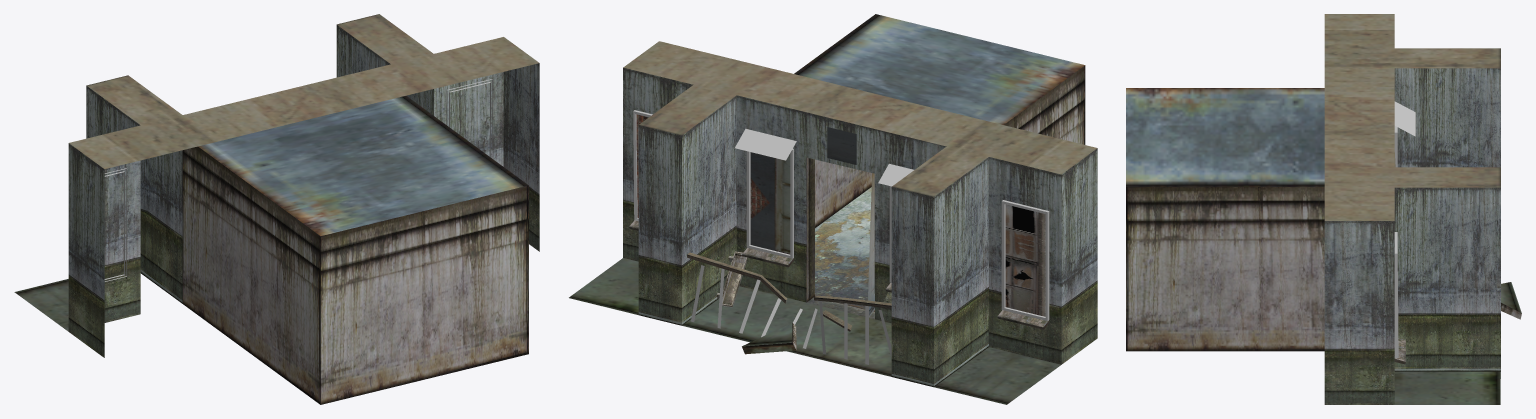
The model's file is Store_front_15_B.fbx.
3 views of the same model, side by side, from view 1: azimuth 30°, elevation 25°; view 2: azimuth 150°, elevation 25°; view 3: azimuth 270°, elevation 25° (orthographic). The views are drawn at different scales.
Parts seen in each view (by area): view 1: Store_front_15_B; view 2: Store_front_15_B; view 3: Store_front_15_B.
Boxes of the visible parts, bbox=[...] form: Store_front_15_B: bbox=[14, 14, 539, 404]; Store_front_15_B: bbox=[569, 14, 1097, 404]; Store_front_15_B: bbox=[1126, 14, 1521, 404].
Bounding box in the file's own units: 700 × 295 × 566.
